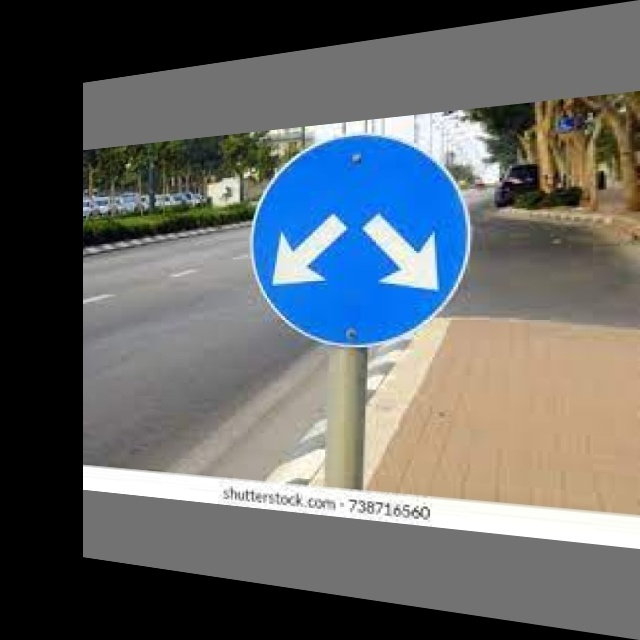Pass_Either_Side: (249, 121, 474, 349)
